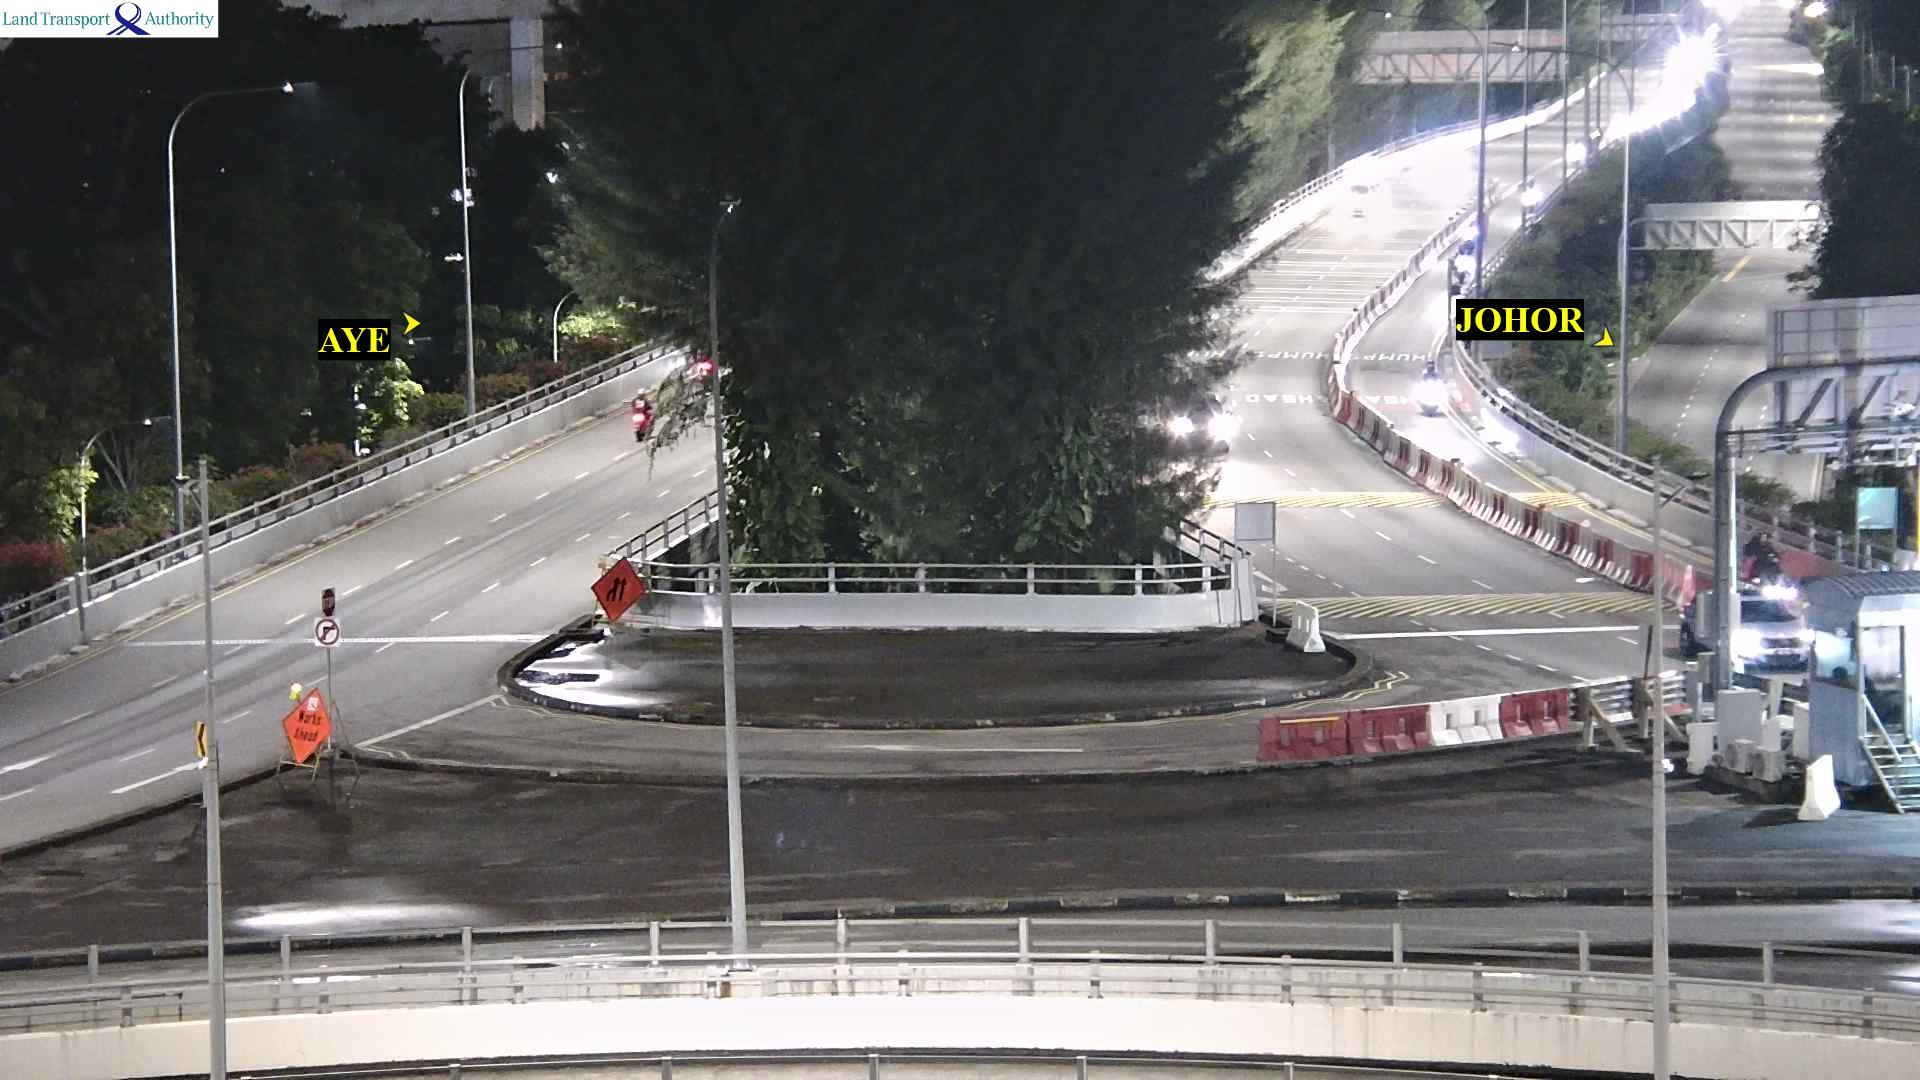vehicle-secondlink-johor: (1696, 588, 1812, 668), (1342, 175, 1380, 224), (1416, 358, 1447, 418), (1453, 233, 1475, 273)
vehicle-secondlink-singapore: (622, 387, 649, 431)
